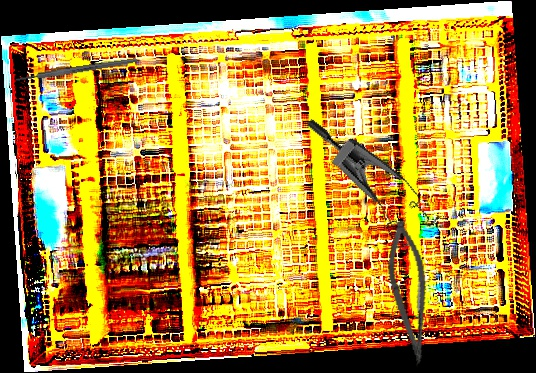Micro Scissor: (378, 217, 443, 369)
Scalpel Handle: (15, 57, 138, 83)
Speculum: (274, 115, 455, 261)
